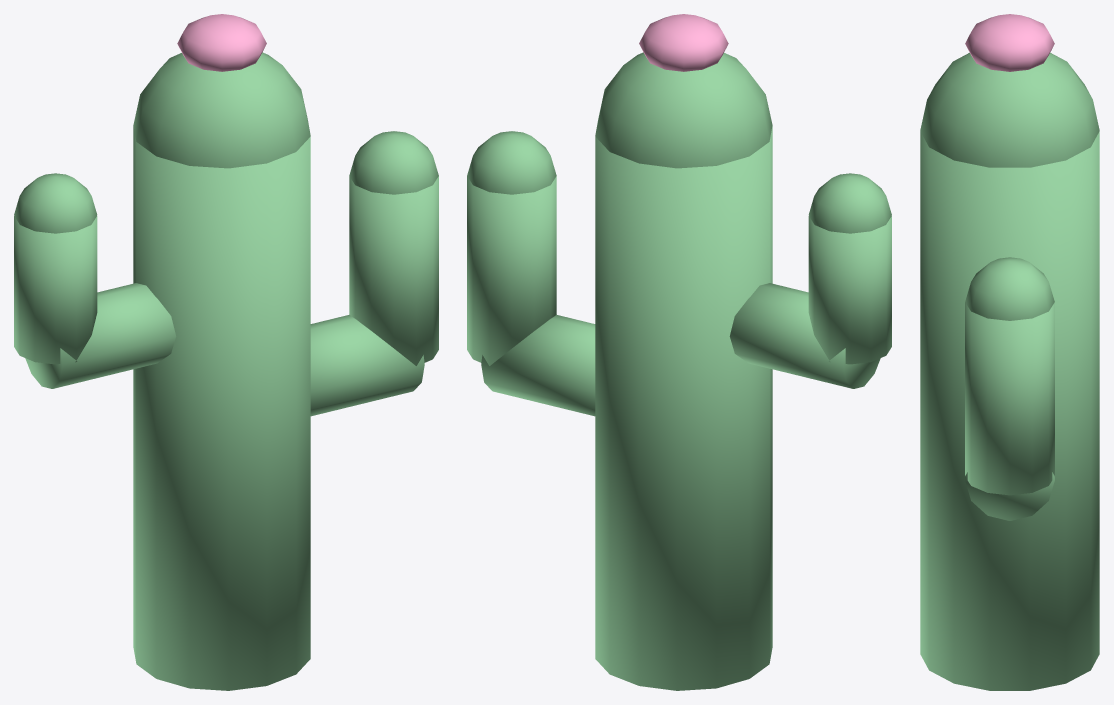
Rendered from Cactus.fbx.
3 renders of one model, left to right at view 1: azimuth 30°, elevation 25°; view 2: azimuth 150°, elevation 25°; view 3: azimuth 270°, elevation 25°, orthographic.
Visible parts, largest first — view 1: Cactus; view 2: Cactus; view 3: Cactus.
Boxes of the visible parts, box(x1,y1,x2,y2) form: Cactus: box(14, 14, 438, 690); Cactus: box(467, 14, 891, 690); Cactus: box(920, 14, 1099, 690).
Size of the model in its own units: 1.49 by 2.18 by 0.56.
